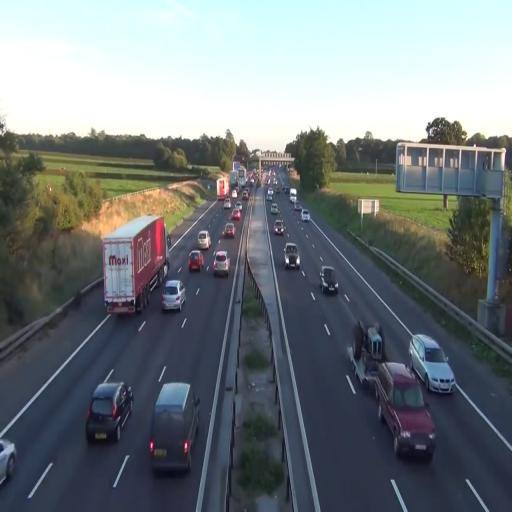vehicle: (101, 214, 168, 315), (374, 361, 437, 460), (374, 361, 436, 460), (148, 381, 200, 472), (85, 380, 133, 444), (408, 333, 456, 396), (0, 436, 17, 486), (161, 279, 186, 311), (319, 265, 339, 295), (366, 324, 383, 358), (211, 250, 229, 276), (284, 242, 300, 269), (188, 250, 204, 273), (197, 230, 211, 252), (274, 220, 285, 237), (300, 209, 310, 222)
